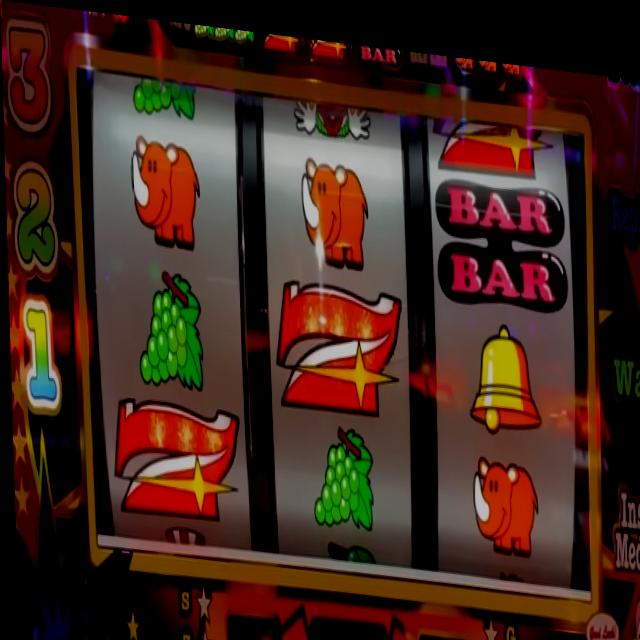bar: (433, 162, 568, 295), (357, 35, 402, 62)
bell: (465, 309, 540, 428)
clown: (292, 92, 371, 138)
display: (71, 57, 596, 595)
elephant: (129, 127, 201, 249), (299, 143, 371, 259), (470, 441, 538, 549)
grape: (134, 264, 203, 392), (309, 414, 374, 522), (132, 67, 197, 118), (194, 19, 215, 37), (216, 21, 234, 41), (235, 23, 251, 42)
z: (270, 270, 401, 409), (110, 389, 237, 519), (428, 102, 553, 171), (310, 32, 347, 57), (266, 26, 299, 51)
